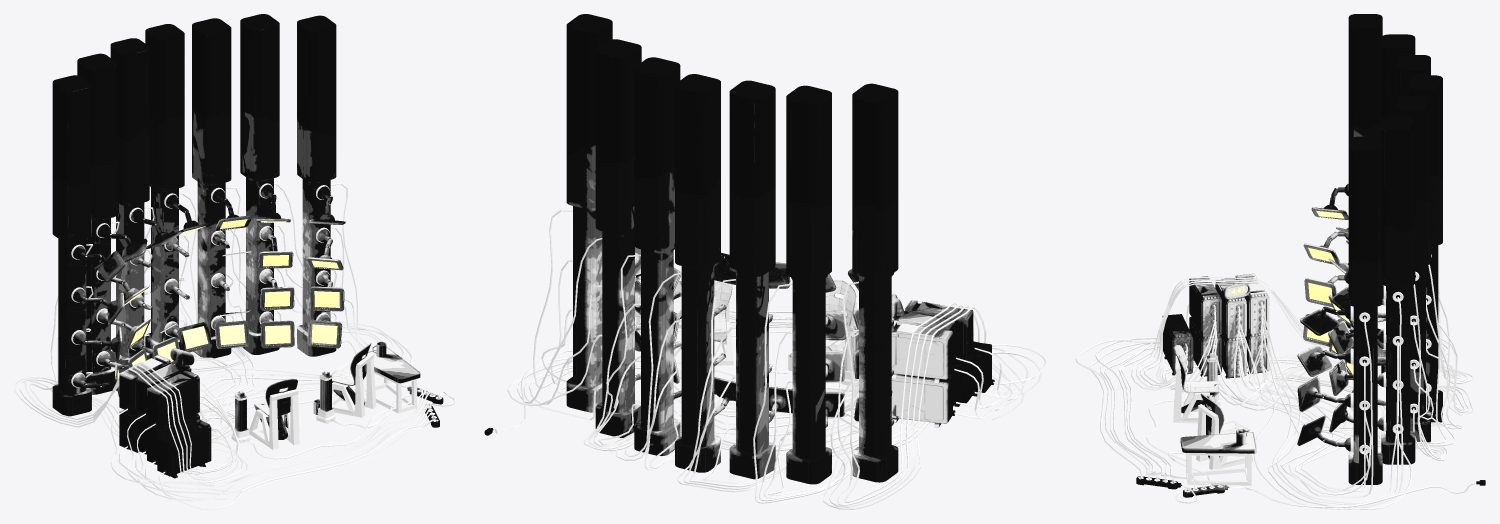
File: room.glb
3 views of the same model, side by side, from view 1: azimuth 30°, elevation 25°; view 2: azimuth 150°, elevation 25°; view 3: azimuth 270°, elevation 25° (orthographic). The views are drawn at different scales.
Parts seen in each view (by area): view 1: Shading1_5, Shading2_cables_1, Shading1_4, Shading1_29, Shading2_cables_3, Shading2_cables_2, screen_19, screen_21; view 2: Shading1_5, Shading2_cables_1, Shading1_29, Shading1_4, Shading2_cables_3; view 3: Shading1_5, Shading2_cables_1, Shading1_29, Shading1_4, Shading2_cables_3, Shading2_cables_2.
Boxes of the visible parts, x1=… form: Shading1_5: x1=52, y1=14, x2=344, y2=416; Shading2_cables_1: x1=14, y1=183, x2=455, y2=509; Shading1_4: x1=53, y1=15, x2=345, y2=389; Shading1_29: x1=119, y1=341, x2=443, y2=478; Shading2_cables_3: x1=72, y1=228, x2=441, y2=449; Shading2_cables_2: x1=71, y1=183, x2=374, y2=449; screen_19: x1=219, y1=324, x2=245, y2=345; screen_21: x1=311, y1=324, x2=337, y2=344; Shading1_5: x1=484, y1=14, x2=898, y2=484; Shading2_cables_1: x1=493, y1=238, x2=1046, y2=509; Shading1_29: x1=635, y1=280, x2=994, y2=427; Shading1_4: x1=567, y1=14, x2=897, y2=425; Shading2_cables_3: x1=635, y1=297, x2=892, y2=422; Shading1_5: x1=1297, y1=14, x2=1485, y2=485; Shading2_cables_1: x1=1075, y1=196, x2=1476, y2=509; Shading1_29: x1=1136, y1=273, x2=1269, y2=497; Shading1_4: x1=1297, y1=14, x2=1442, y2=446; Shading2_cables_3: x1=1173, y1=254, x2=1431, y2=492; Shading2_cables_2: x1=1173, y1=187, x2=1428, y2=497.
Size of what is drawn, in the model's own units: 6.52 by 5.84 by 6.49.
3 materials, 1 textured.
